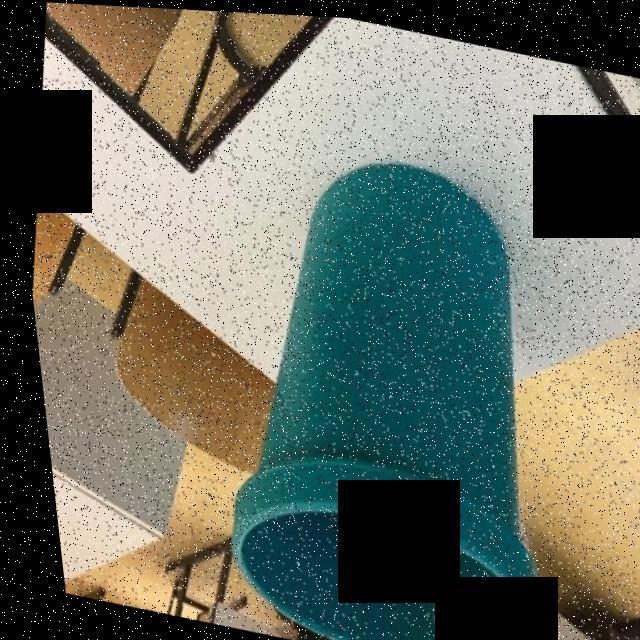bin: (150, 107, 594, 640)
